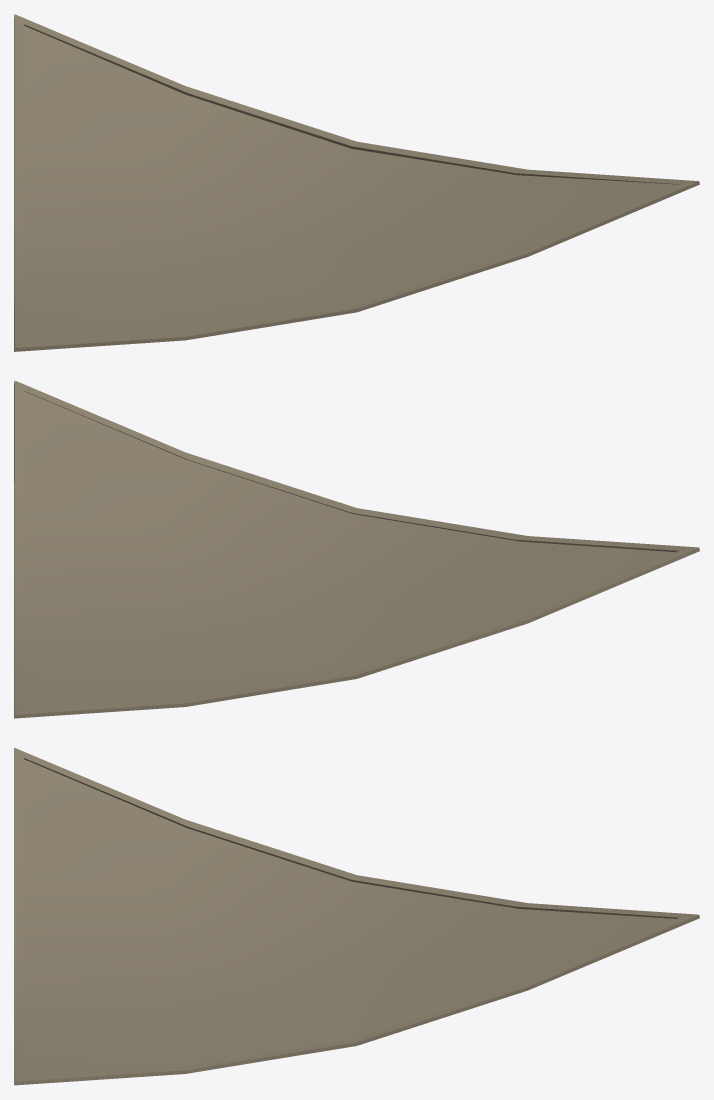
Rendered from savHubGridEmiss.fbx.
The picture shows the model from 3 angles, top to bottom: view 1: azimuth 30°, elevation 25°; view 2: azimuth 150°, elevation 25°; view 3: azimuth 270°, elevation 25°; orthographic projection.
Visible parts, largest first — view 1: savHubGridEmiss_LOD0; view 2: savHubGridEmiss_LOD0; view 3: savHubGridEmiss_LOD0.
Boxes of the visible parts, bbox=[...] form: savHubGridEmiss_LOD0: bbox=[14, 14, 699, 351]; savHubGridEmiss_LOD0: bbox=[14, 380, 699, 718]; savHubGridEmiss_LOD0: bbox=[14, 747, 699, 1085].
Size of what is drawn, in the model's own units: 264 by 20.53 by 228.
